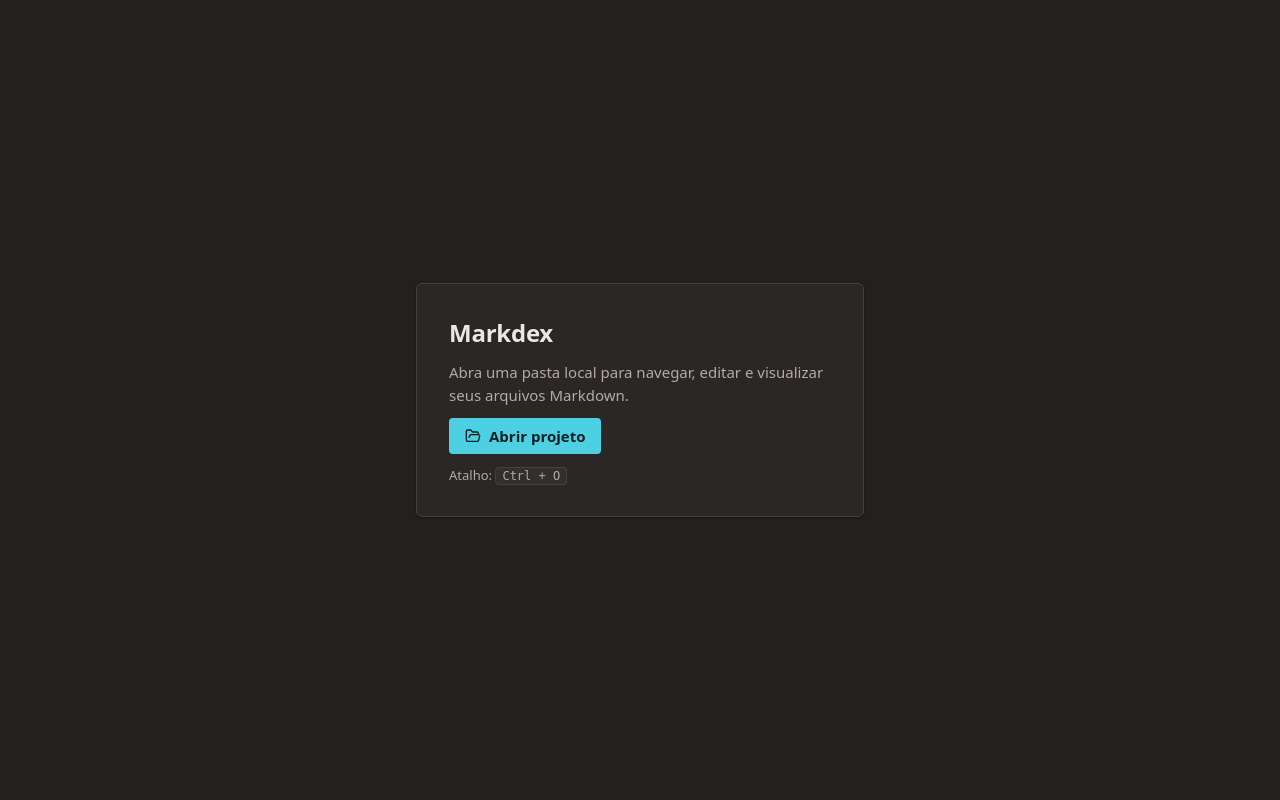
Scenario: App overlays: Settings and Command Palette wiring › the command palette includes an item that opens Settings
Press P
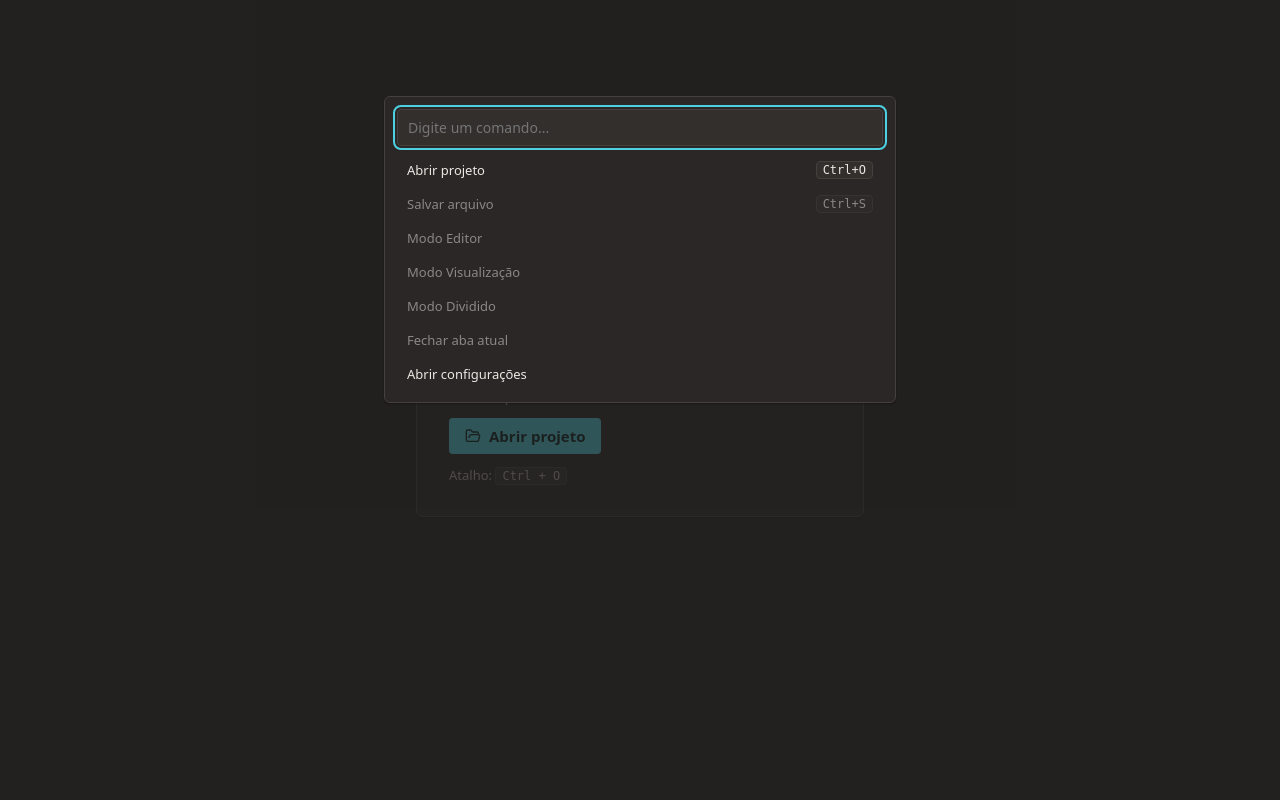
Click the button "Abrir configurações".
click(467, 374)  # box [397,358,883,390]
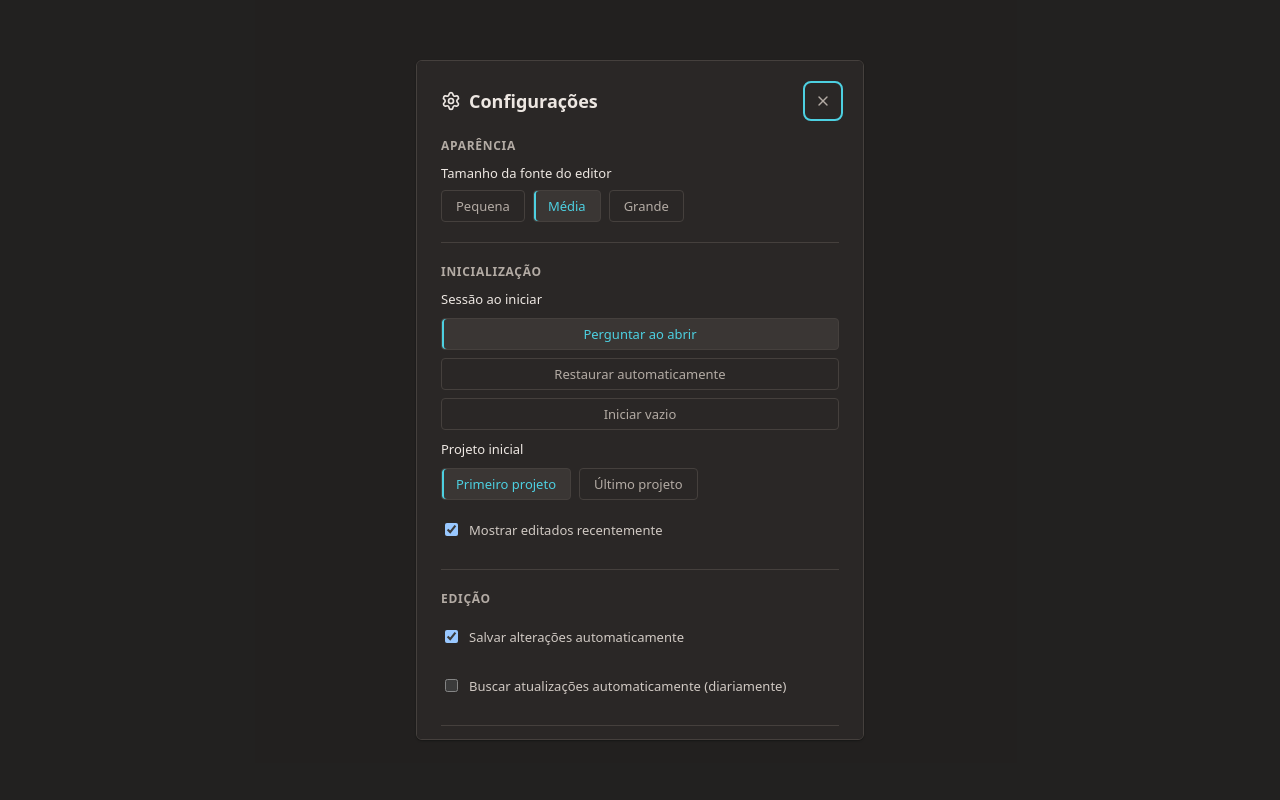
Now the dialog "Configurações" is shown, box [416,60,864,740]
